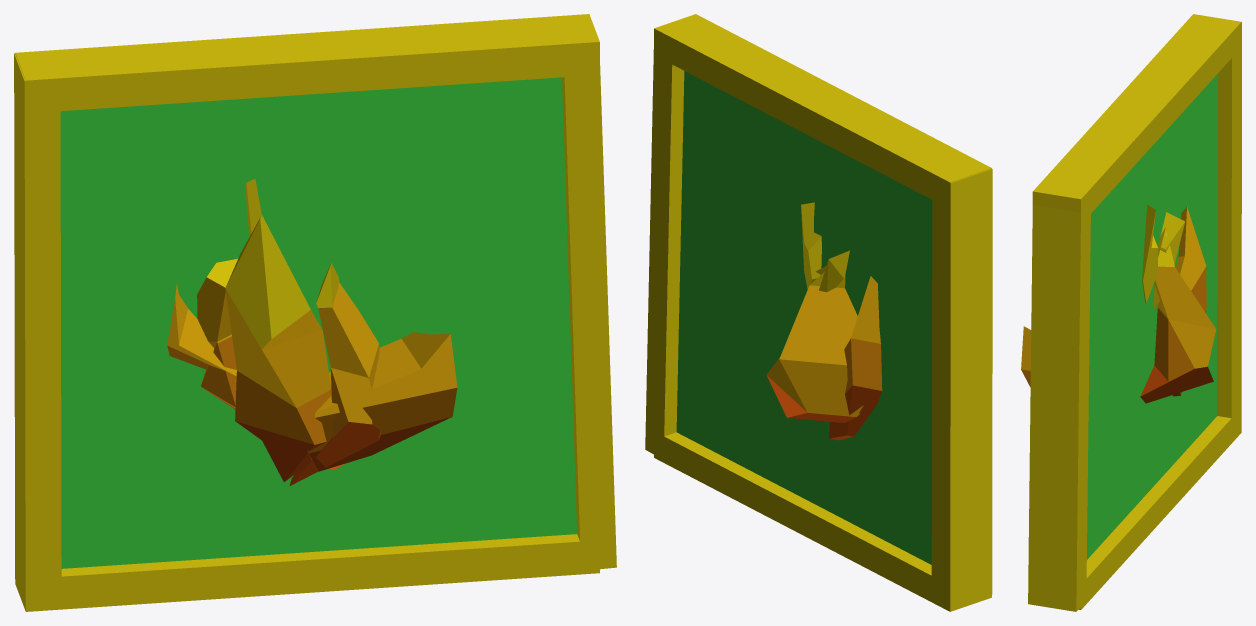
File: bonus-fire.fbx
3 renders of one model, left to right at view 1: azimuth 30°, elevation 25°; view 2: azimuth 150°, elevation 25°; view 3: azimuth 270°, elevation 25°, orthographic. The views are drawn at different scales.
Visible parts, largest first — view 1: Cube.004, Box003, Box005, Box007, Box004, Box001; view 2: Cube.004, Box004, Box001, Box008, Box010; view 3: Cube.004, Box004, Box001, Box008, Box010, Box005.
Boxes of the visible parts, x1,y1,x2,y2 form: Cube.004: (14,14,616,611); Box003: (225,215,331,482); Box005: (307,332,457,471); Box007: (289,263,380,485); Box004: (197,259,346,470); Box001: (167,284,236,376); Cube.004: (645,14,992,611); Box004: (766,266,863,422); Box001: (829,276,882,440); Box008: (801,202,821,289); Box010: (819,250,849,291); Cube.004: (1028,14,1241,611); Box004: (1140,227,1216,403); Box001: (1172,207,1206,396); Box008: (1142,205,1158,303); Box010: (1153,212,1184,308); Box005: (1021,326,1031,387).
Bounding box in the file's own units: 402 × 403 × 197.
